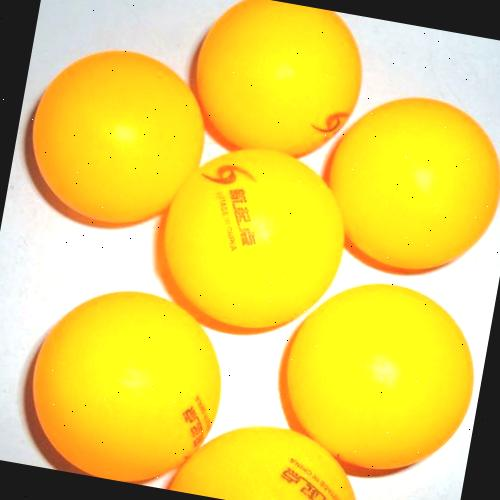ball: (5, 266, 240, 495), (262, 263, 488, 490), (146, 126, 362, 351), (11, 30, 222, 246), (308, 78, 500, 288), (170, 0, 381, 171)
